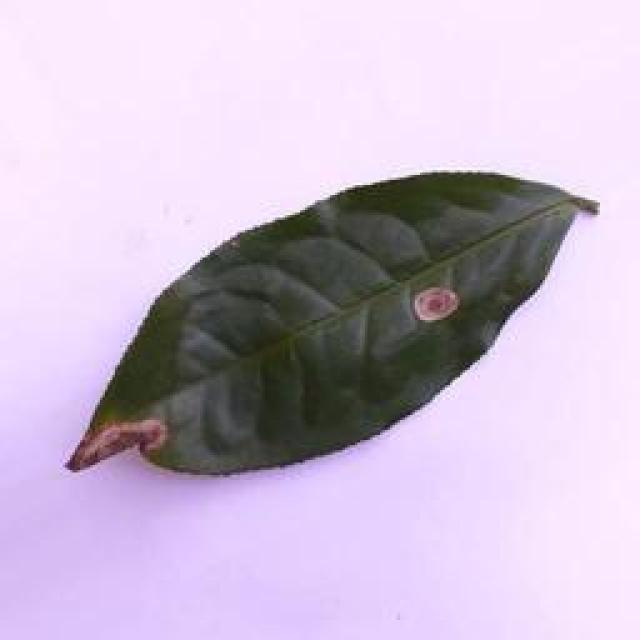Gray Blight: (69, 170, 603, 474)
